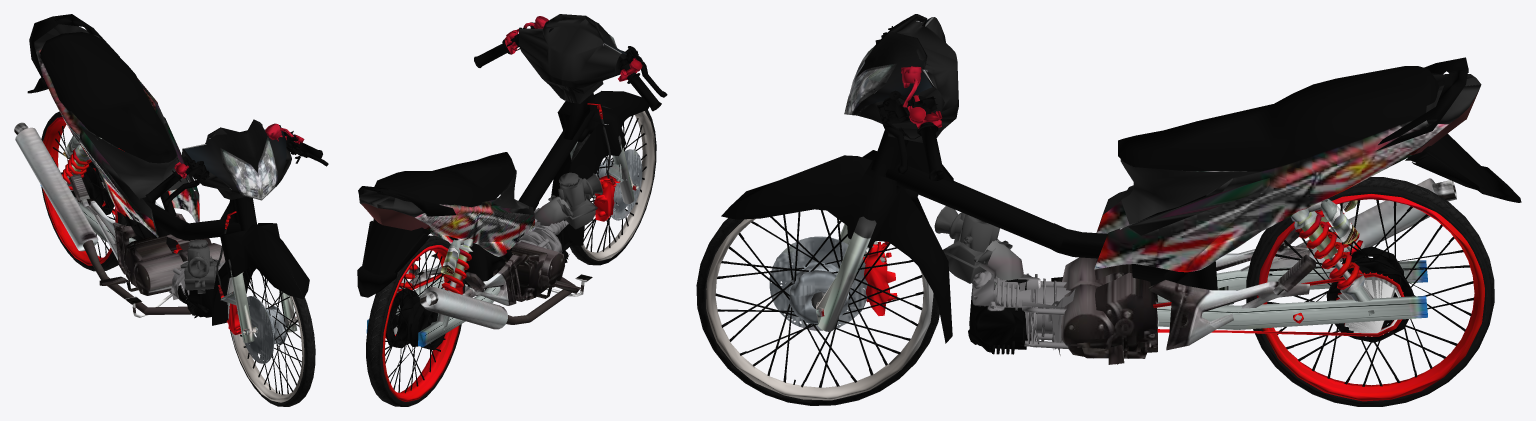
Rendered from supra x 125.fbx.
3 views of the same model, side by side, from view 1: azimuth 30°, elevation 25°; view 2: azimuth 150°, elevation 25°; view 3: azimuth 270°, elevation 25° (orthographic). The views are drawn at different scales.
Parts seen in each view (by area): view 1: bodi_chassis.008, ssteer_hand.002, axle_depan_mudguard.001, wheel_front.003, ban_belakang_wheel_rear.003, rear_forks_rear.001; view 2: bodi_chassis.008, ssteer_hand.002, ban_belakang_wheel_rear.003, axle_depan_mudguard.001, wheel_front.003, rear_forks_rear.001; view 3: bodi_chassis.008, ban_belakang_wheel_rear.003, wheel_front.003, axle_depan_mudguard.001, rear_forks_rear.001, ssteer_hand.002.
Part boxes in pixels (x1,y1,x2,y2): bodi_chassis.008: (14,14,256,318); ssteer_hand.002: (145,119,328,207); axle_depan_mudguard.001: (212,211,309,342); wheel_front.003: (226,267,315,406); ban_belakang_wheel_rear.003: (41,111,126,271); rear_forks_rear.001: (40,135,181,253); bodi_chassis.008: (357,92,602,329); ssteer_hand.002: (474,14,667,111); ban_belakang_wheel_rear.003: (366,235,464,406); axle_depan_mudguard.001: (551,91,649,245); wheel_front.003: (570,105,656,265); rear_forks_rear.001: (366,239,500,346); bodi_chassis.008: (871,57,1521,364); ban_belakang_wheel_rear.003: (1246,177,1494,406); wheel_front.003: (696,210,939,405); axle_depan_mudguard.001: (721,150,952,343); rear_forks_rear.001: (1153,199,1427,336); ssteer_hand.002: (844,14,958,180).
Size of the model in its own units: 0.7257 by 1.97 by 0.9959.
19 materials, 19 textured.
